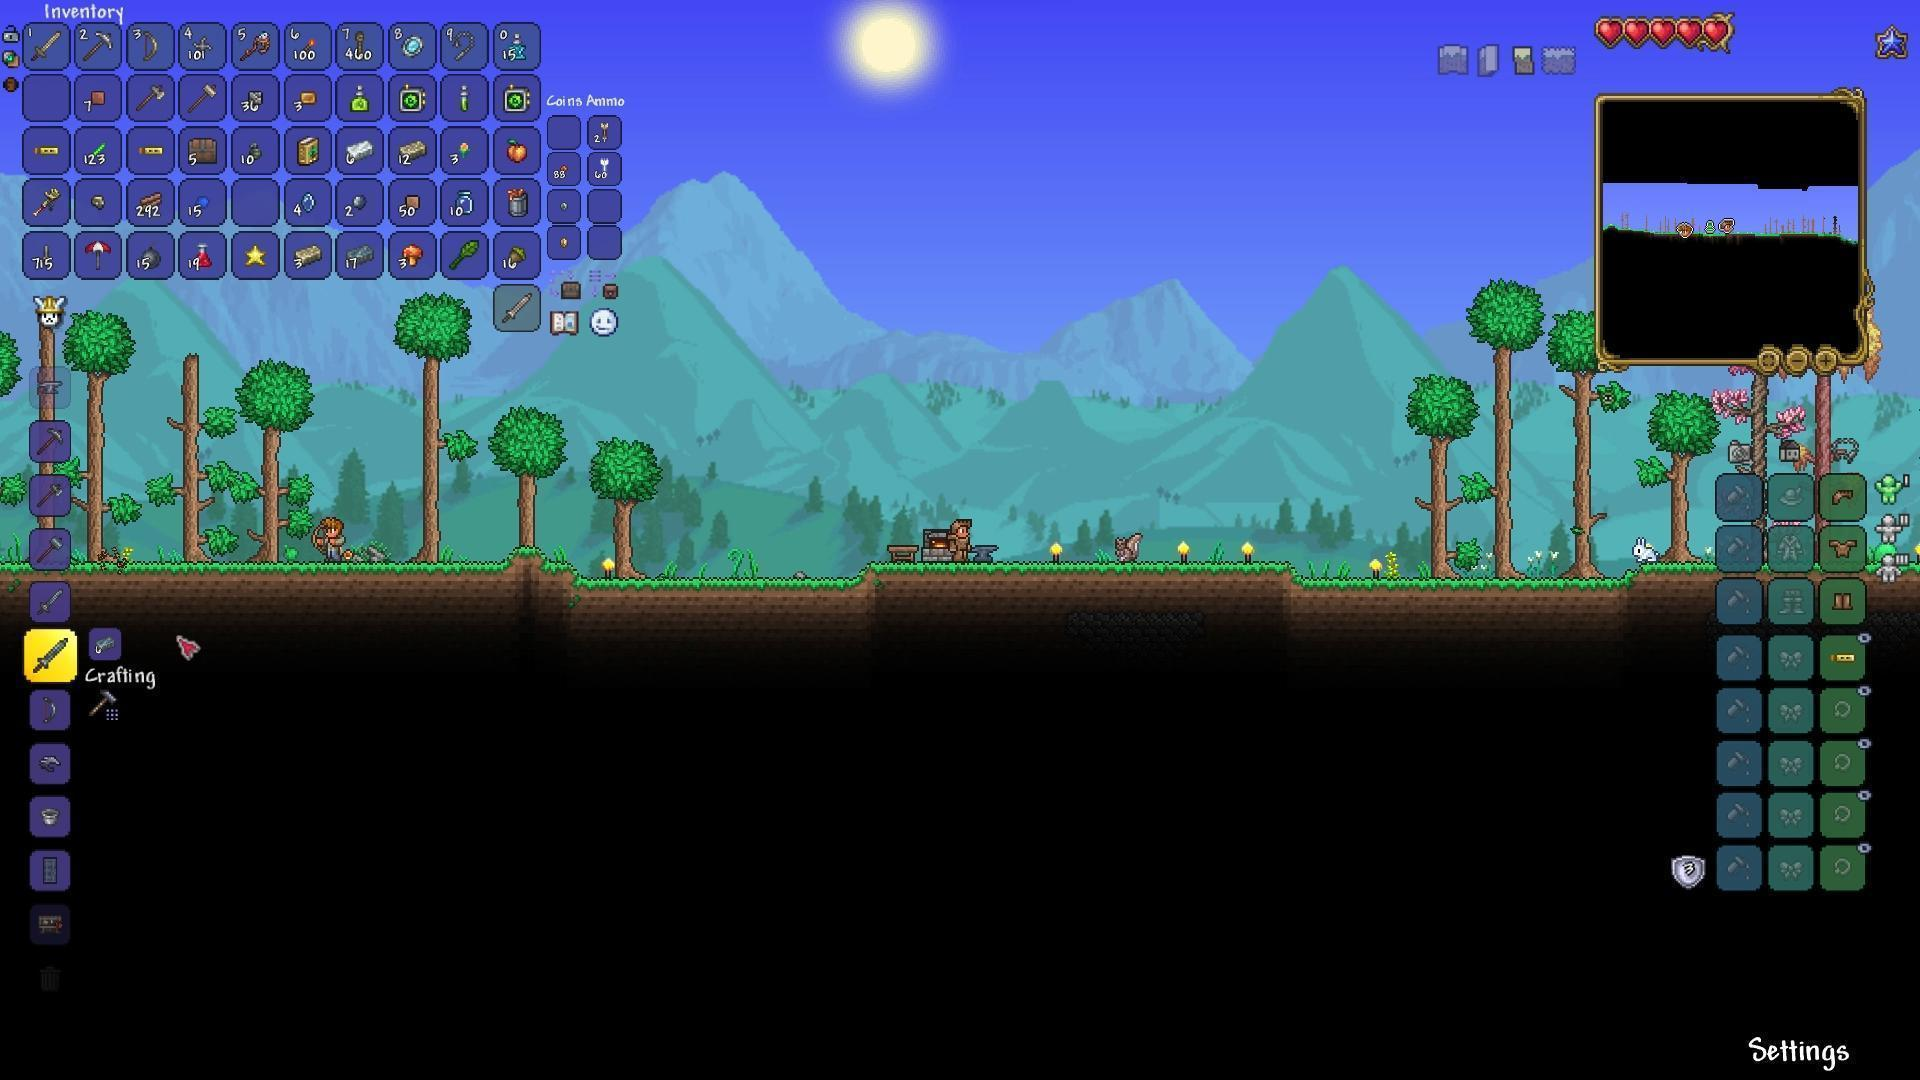anvil: (965, 541, 1004, 564)
bomb: (138, 243, 165, 268)
bow: (141, 26, 160, 63), (40, 694, 58, 724)
breastplate: (1829, 538, 1857, 559)
furnace: (916, 524, 955, 560)
gel: (195, 191, 212, 212)
glowstick: (87, 138, 108, 160)
grenade: (248, 137, 262, 165)
helmet: (1830, 487, 1855, 509), (40, 752, 65, 774)
knife: (41, 241, 53, 265)
legs: (1830, 589, 1858, 615)
lens: (301, 187, 319, 215)
pickaxe: (83, 28, 116, 58), (36, 426, 65, 459)
rope: (353, 26, 368, 61)
shuriken: (193, 36, 212, 58)
wood: (136, 189, 167, 212)
workbench: (886, 543, 922, 564)
